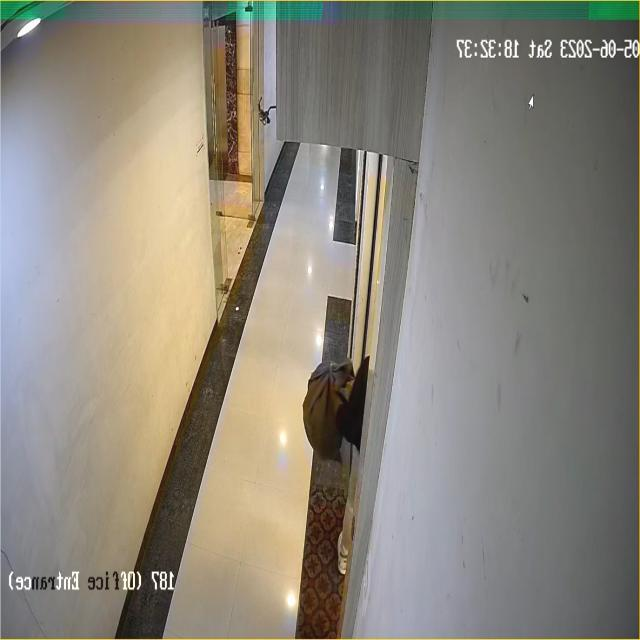gunny_bag: (300, 364, 348, 458)
